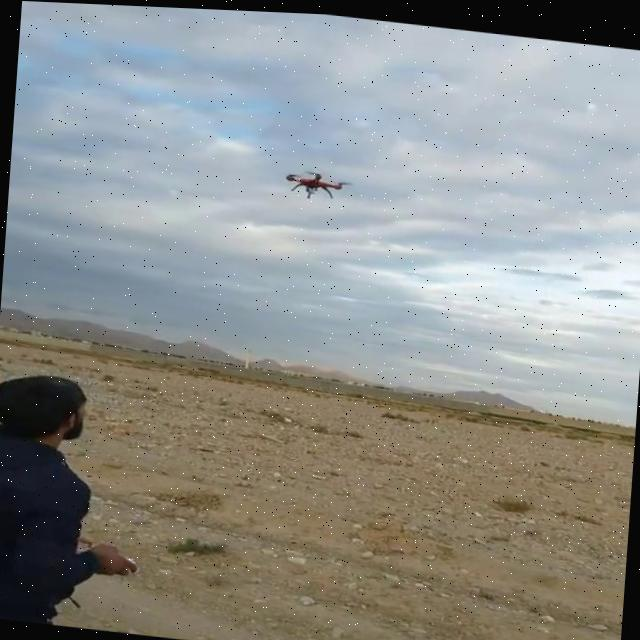drone: (278, 160, 353, 203)
